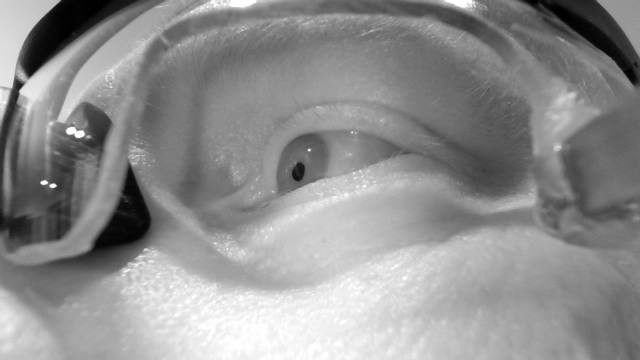pupil: (291, 161, 306, 183)
